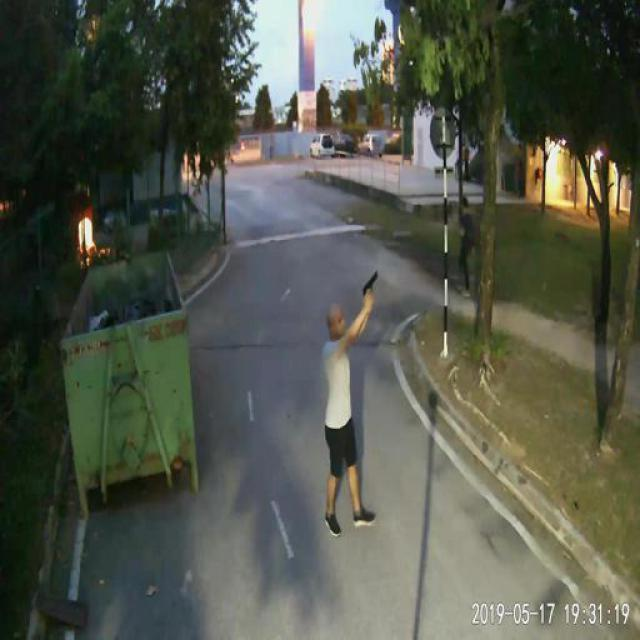weapon: (358, 272, 382, 296)
